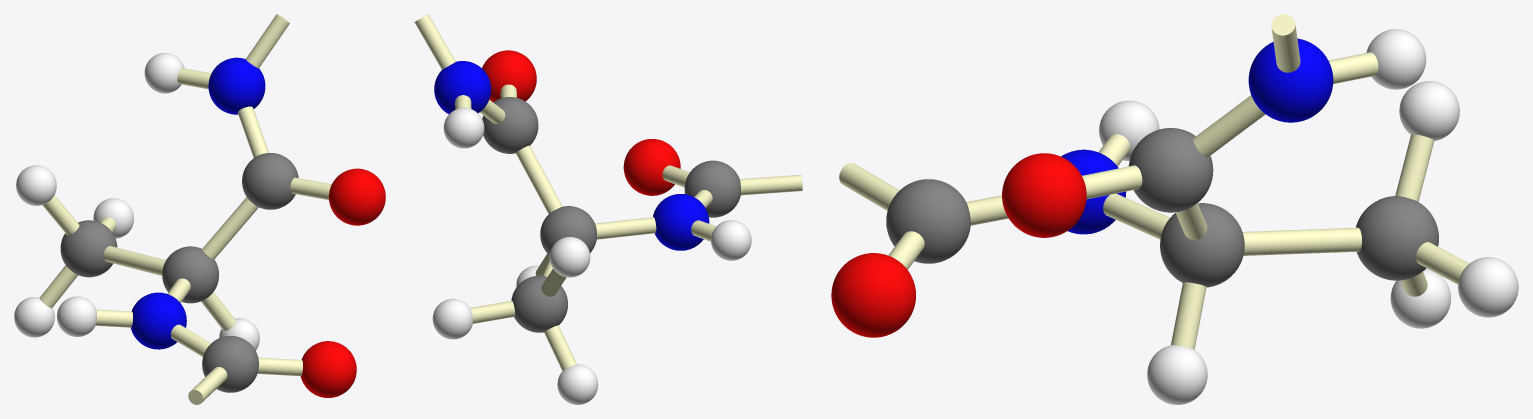
Rendered from conformation.gltf.
3 views of the same model, side by side, from view 1: azimuth 30°, elevation 25°; view 2: azimuth 150°, elevation 25°; view 3: azimuth 270°, elevation 25° (orthographic). The views are drawn at different scales.
Visible parts, largest first — view 1: ?????????6, ?????????2, ?????????13, ?????????5, ?????????3, ?????????9, ?????????1, ?????????4, ?????????12, ?????????7, ?????????10, ?????????14 (+16 smaller); view 2: ?????????2, ?????????3, ?????????9, ?????????5, ?????????13, ?????????1, ?????????6, ?????????4, ?????????14, ?????????12, ?????????7, ?????????11 (+11 smaller); view 3: ?????????6, ?????????2, ?????????5, ?????????9, ?????????1, ?????????13, ?????????4, ?????????11, ?????????22, ?????????8, ?????????12, ?????????14 (+16 smaller).
Boxes of the visible parts, x1,y1,x2,y2 form: ?????????6: (329, 168, 385, 225); ?????????2: (300, 341, 356, 397); ?????????13: (208, 57, 265, 114); ?????????5: (242, 153, 298, 209); ?????????3: (131, 292, 186, 349); ?????????9: (60, 220, 117, 277); ?????????1: (202, 336, 258, 392); ?????????4: (162, 246, 218, 303); ?????????12: (16, 165, 56, 205); ?????????7: (57, 296, 96, 336); ?????????10: (14, 297, 54, 337); ?????????14: (144, 53, 184, 93); ?????????2: (623, 139, 680, 195); ?????????3: (653, 194, 709, 250); ?????????9: (511, 275, 567, 332); ?????????5: (482, 97, 538, 153); ?????????13: (434, 61, 491, 114); ?????????1: (684, 160, 740, 217); ?????????6: (482, 50, 536, 102); ?????????4: (540, 206, 596, 255); ?????????14: (443, 107, 484, 148); ?????????12: (549, 237, 590, 277); ?????????7: (711, 220, 751, 260); ?????????11: (432, 298, 472, 339); ?????????6: (1002, 153, 1086, 237); ?????????2: (831, 253, 915, 337); ?????????5: (1128, 128, 1213, 212); ?????????9: (1356, 196, 1438, 280); ?????????1: (886, 179, 970, 263); ?????????13: (1248, 38, 1333, 122); ?????????4: (1160, 203, 1244, 287); ?????????11: (1458, 257, 1518, 317); ?????????22: (1242, 227, 1361, 255); ?????????8: (1147, 345, 1207, 404); ?????????12: (1399, 81, 1459, 140); ?????????14: (1366, 29, 1426, 89).
Bounding box in the file's own units: 41.63 × 41.44 × 56.76.
